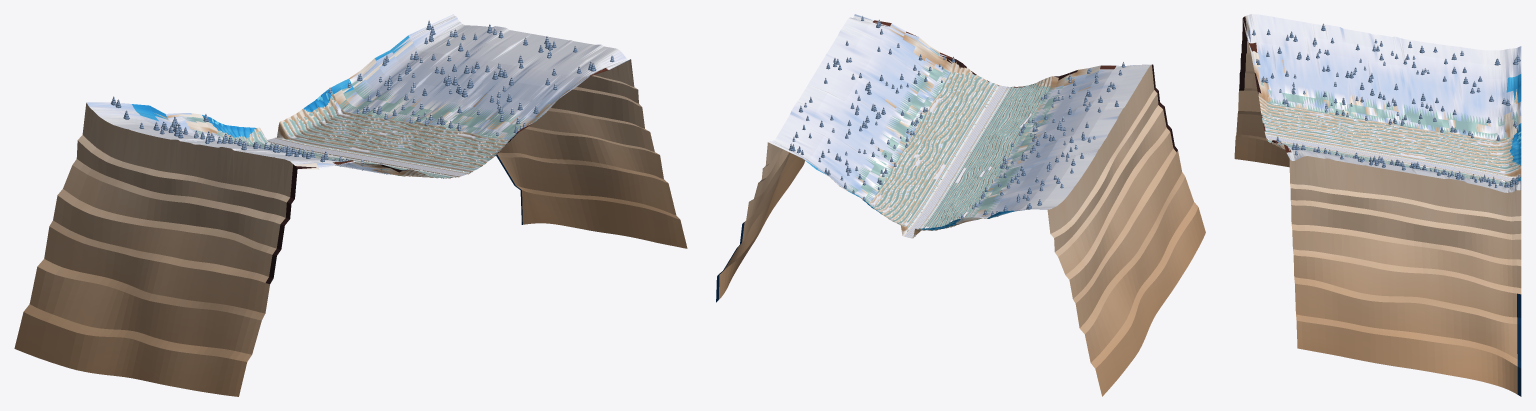
3 views of the same model, side by side, from view 1: azimuth 30°, elevation 25°; view 2: azimuth 150°, elevation 25°; view 3: azimuth 270°, elevation 25° (orthographic). The views are drawn at different scales.
Visible parts, largest first — view 1: S05_Terrain_R_4400, S05_Terrain_R_4620, S05_Terrain_R_5720, S05_Terrain_L_5500, S05_Terrain_L_5280, S05_Terrain_L_5720, S05_Terrain_L_5060, S05_Terrain_R_4840, S05_Terrain_R_5500, S05_Terrain_R_5280, S05_Terrain_R_5060, S05_Terrain_L_4840 (+5 smaller); view 2: S05_Terrain_R_4620, S05_Terrain_R_4400, S05_Terrain_R_4840, S05_Terrain_R_5280, S05_Terrain_R_5720, S05_Terrain_R_5500, S05_Terrain_R_5060, S05_Terrain_L_4840, S05_Terrain_L_5500, S05_Terrain_L_5720, S05_Terrain_L_4620, S05_Terrain_L_5280 (+5 smaller); view 3: S05_Terrain_L_5720, S05_Terrain_L_5500, S05_Terrain_L_5280, S05_Terrain_L_5060, S05_Terrain_L_4840, S05_Terrain_R_5720, S05_Terrain_L_4620, S05_Terrain_R_4400, S05_Terrain_R_4620, S05_Terrain_L_4400, S05_Terrain_R_5500, S05_Terrain_R_4840 (+5 smaller).
Boxes of the visible parts, x1,y1,x2,y2 form: S05_Terrain_R_4400: [14, 102, 285, 362]; S05_Terrain_R_4620: [52, 126, 315, 372]; S05_Terrain_R_5720: [208, 156, 457, 396]; S05_Terrain_L_5500: [414, 41, 660, 243]; S05_Terrain_L_5280: [385, 36, 634, 237]; S05_Terrain_L_5720: [442, 46, 687, 248]; S05_Terrain_L_5060: [357, 31, 604, 232]; S05_Terrain_R_4840: [91, 135, 344, 376]; S05_Terrain_R_5500: [179, 150, 429, 392]; S05_Terrain_R_5280: [152, 145, 401, 387]; S05_Terrain_R_5060: [125, 141, 373, 382]; S05_Terrain_L_4840: [328, 26, 576, 227]; S05_Terrain_R_4620: [928, 168, 1143, 368]; S05_Terrain_R_4400: [912, 193, 1125, 396]; S05_Terrain_R_4840: [943, 146, 1152, 341]; S05_Terrain_R_5280: [969, 102, 1181, 297]; S05_Terrain_R_5720: [995, 64, 1205, 254]; S05_Terrain_R_5500: [983, 81, 1194, 275]; S05_Terrain_R_5060: [956, 124, 1167, 319]; S05_Terrain_L_4840: [737, 95, 946, 268]; S05_Terrain_L_5500: [774, 29, 985, 206]; S05_Terrain_L_5720: [790, 14, 999, 184]; S05_Terrain_L_4620: [727, 116, 933, 287]; S05_Terrain_L_5280: [762, 51, 972, 227]; S05_Terrain_L_5720: [1267, 139, 1333, 354]; S05_Terrain_L_5500: [1305, 146, 1370, 362]; S05_Terrain_L_5280: [1340, 152, 1406, 368]; S05_Terrain_L_5060: [1376, 158, 1443, 374]; S05_Terrain_L_4840: [1419, 165, 1478, 380]; S05_Terrain_R_5720: [1234, 14, 1301, 164]; S05_Terrain_L_4620: [1449, 170, 1502, 387]; S05_Terrain_R_4400: [1471, 46, 1521, 177]; S05_Terrain_R_4620: [1426, 42, 1483, 171]; S05_Terrain_L_4400: [1485, 174, 1521, 396]; S05_Terrain_R_5500: [1270, 18, 1337, 167]; S05_Terrain_R_4840: [1388, 36, 1447, 165].
Size of the model in its own units: 2839 by 1459 by 1667.
Materials: 1 (1 with a texture image).
